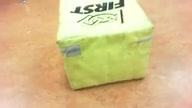cube: (56, 1, 154, 90)
